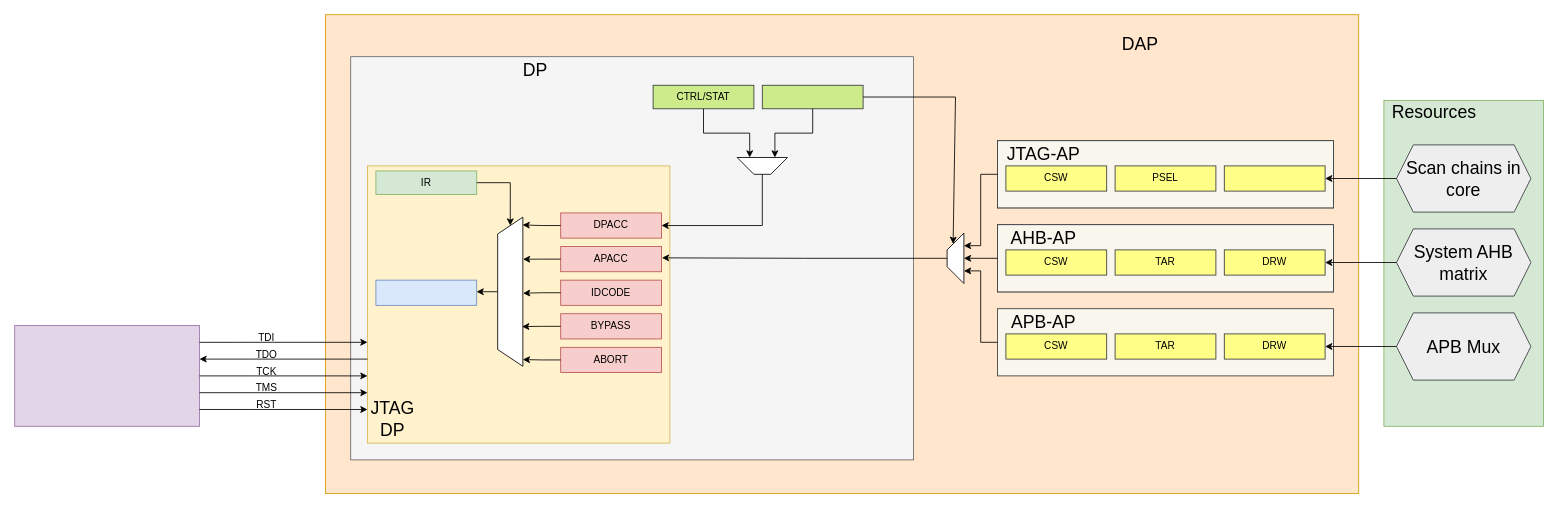
Image size: 1558x508. Some labels were removed from this diagram. Each missing label, with the centre of its shape:
"DR" belongs at (426,292).
"JTAG DEBUGGER" belongs at (107,375).
"PSTA" belongs at (1274,178).
"SELECT" belongs at (812,96).
